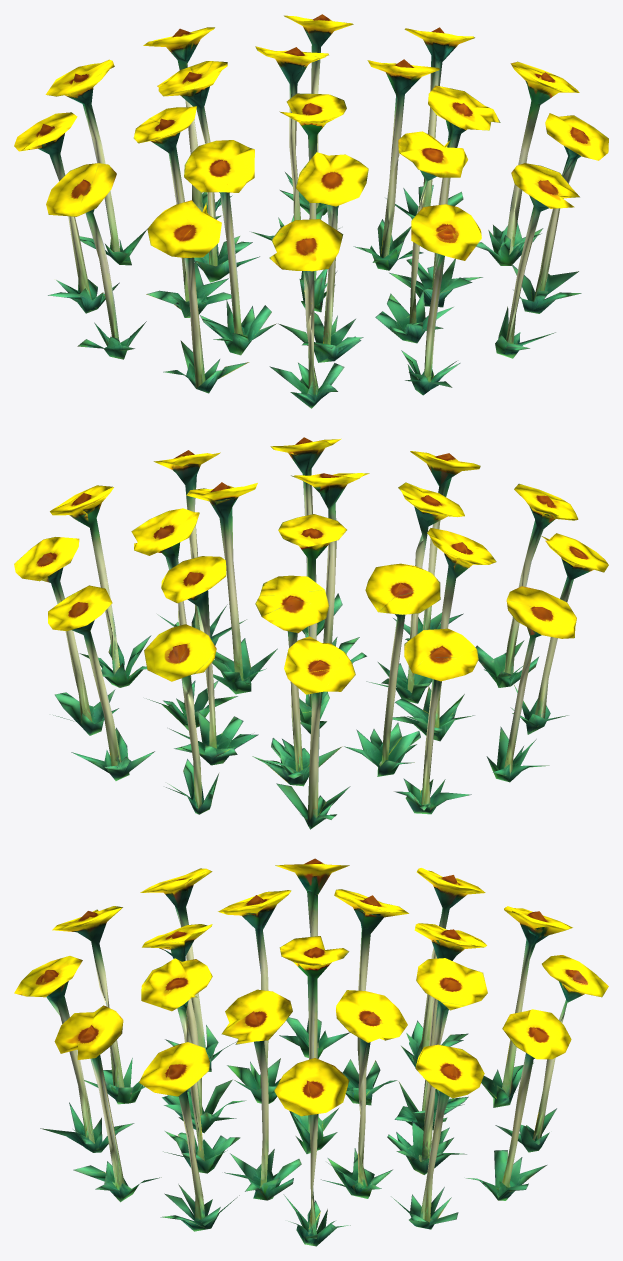
3 renders of one model, top to bottom at view 1: azimuth 30°, elevation 25°; view 2: azimuth 150°, elevation 25°; view 3: azimuth 270°, elevation 25°, orthographic.
Parts seen in each view (by area): view 1: Mesh_0; view 2: Mesh_0; view 3: Mesh_0.
Part boxes in pixels (left/top/right/bottom): Mesh_0: left=14, top=14, right=608, bottom=408; Mesh_0: left=14, top=437, right=608, bottom=829; Mesh_0: left=14, top=858, right=608, bottom=1246.
Bounding box in the file's own units: 1.89 × 0.7338 × 1.89.
1 material, 1 textured.
